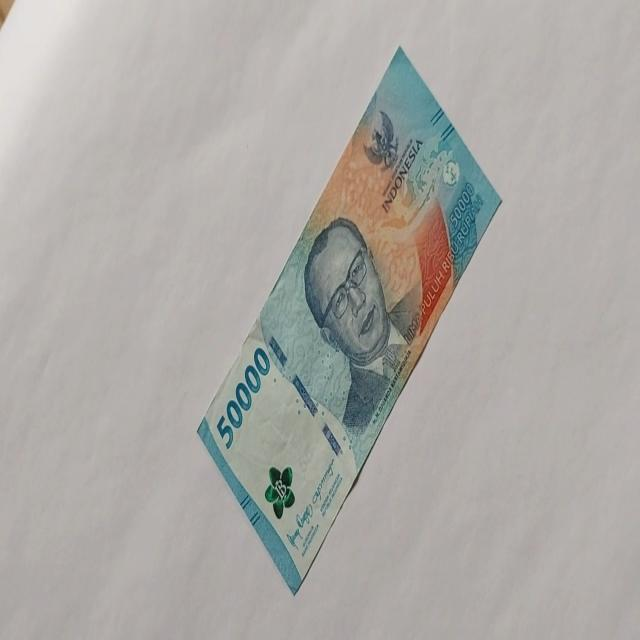lima puluh ribu rupiah: (195, 43, 502, 594), (302, 214, 420, 459), (215, 345, 270, 451)
